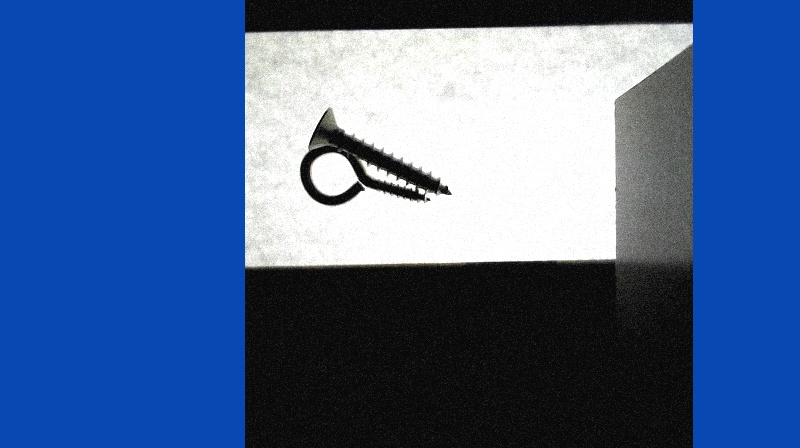O001: (296, 145, 430, 207)
S001: (304, 108, 450, 198)
